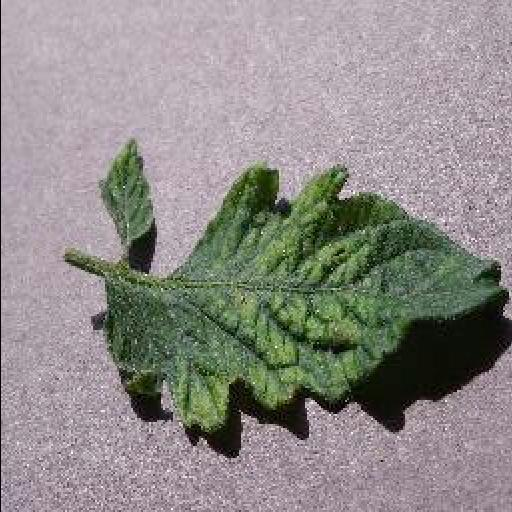disease_tomato: (94, 142, 504, 436)
